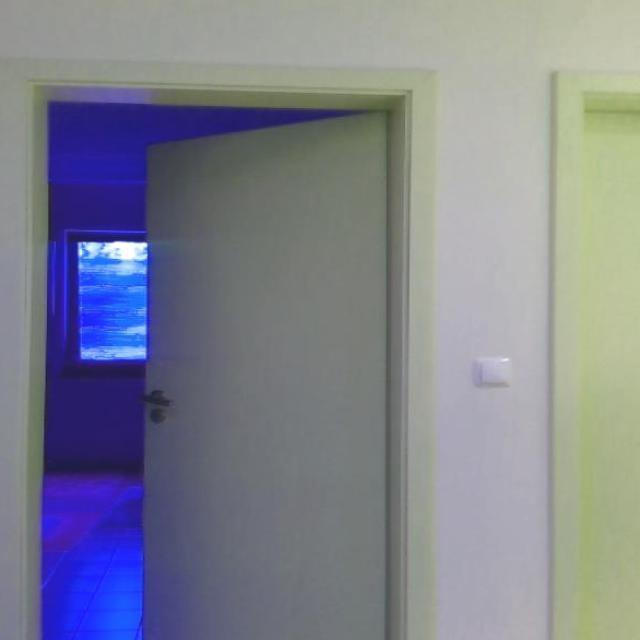door: (140, 109, 391, 639)
